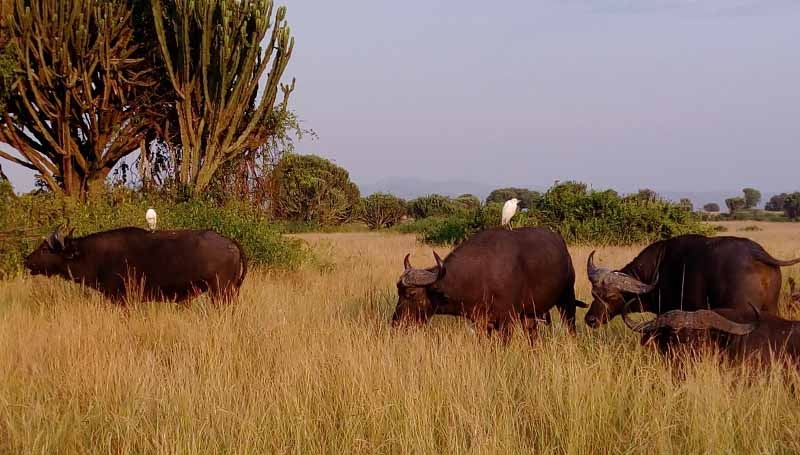bird: (499, 195, 525, 233), (145, 203, 158, 231)
buffalo: (384, 218, 584, 365), (20, 213, 256, 326), (582, 230, 796, 334), (618, 296, 800, 405)
